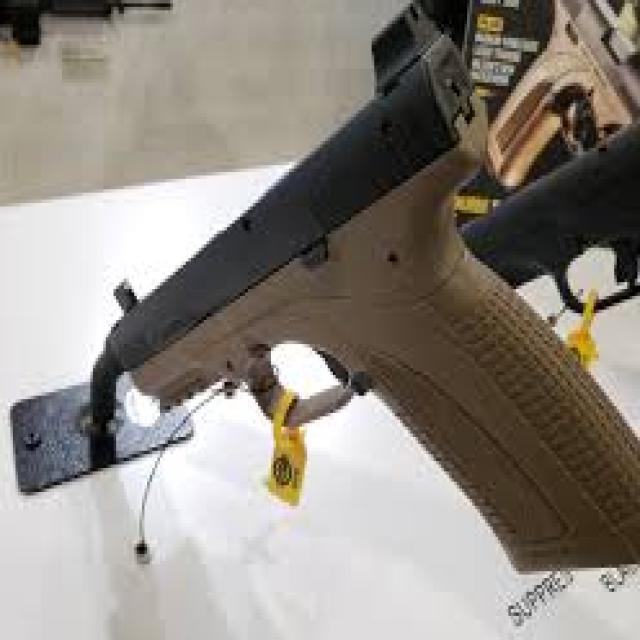Gun: (96, 4, 640, 468)
